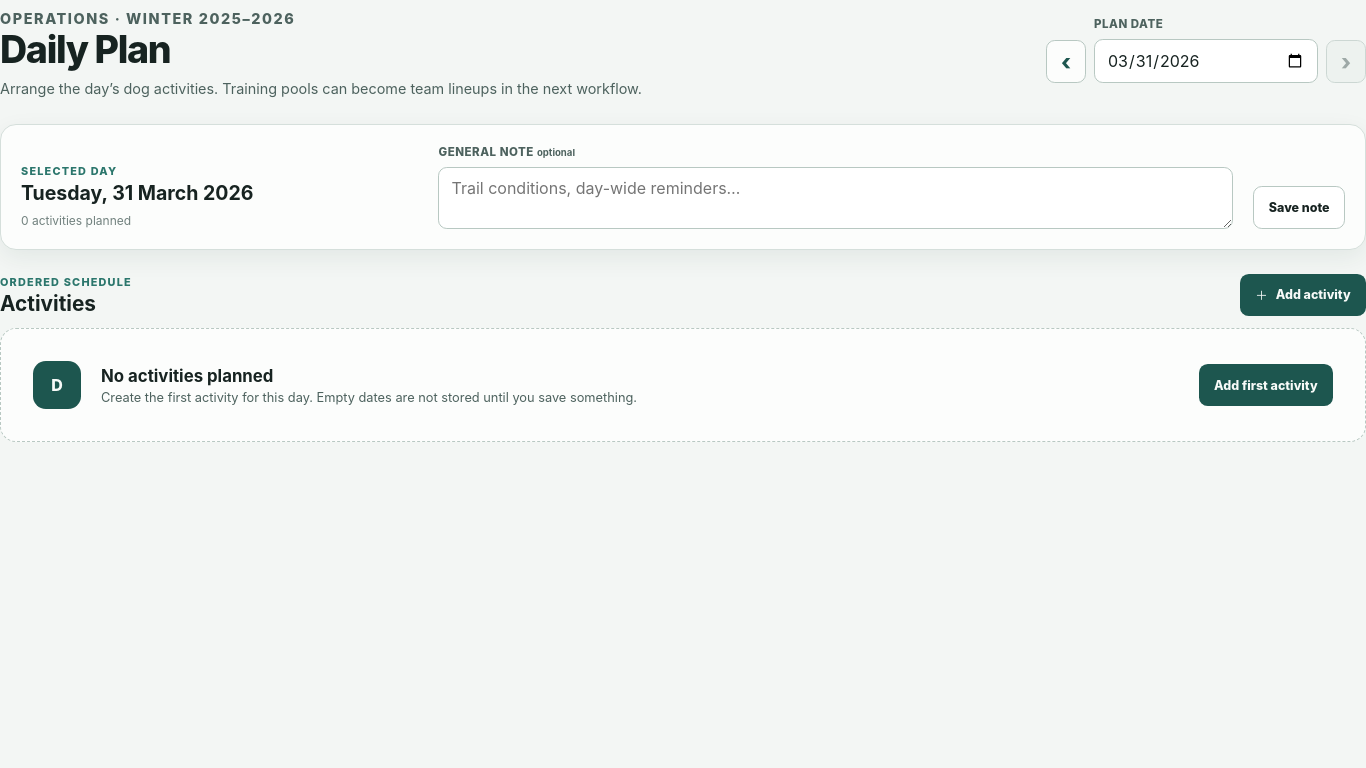
Scenario: DailyPlanPageComponent › creates a 5 km Training activity with selected participants
Click the button "＋ Add activity" at (1303,295), box [1240,274,1365,316]
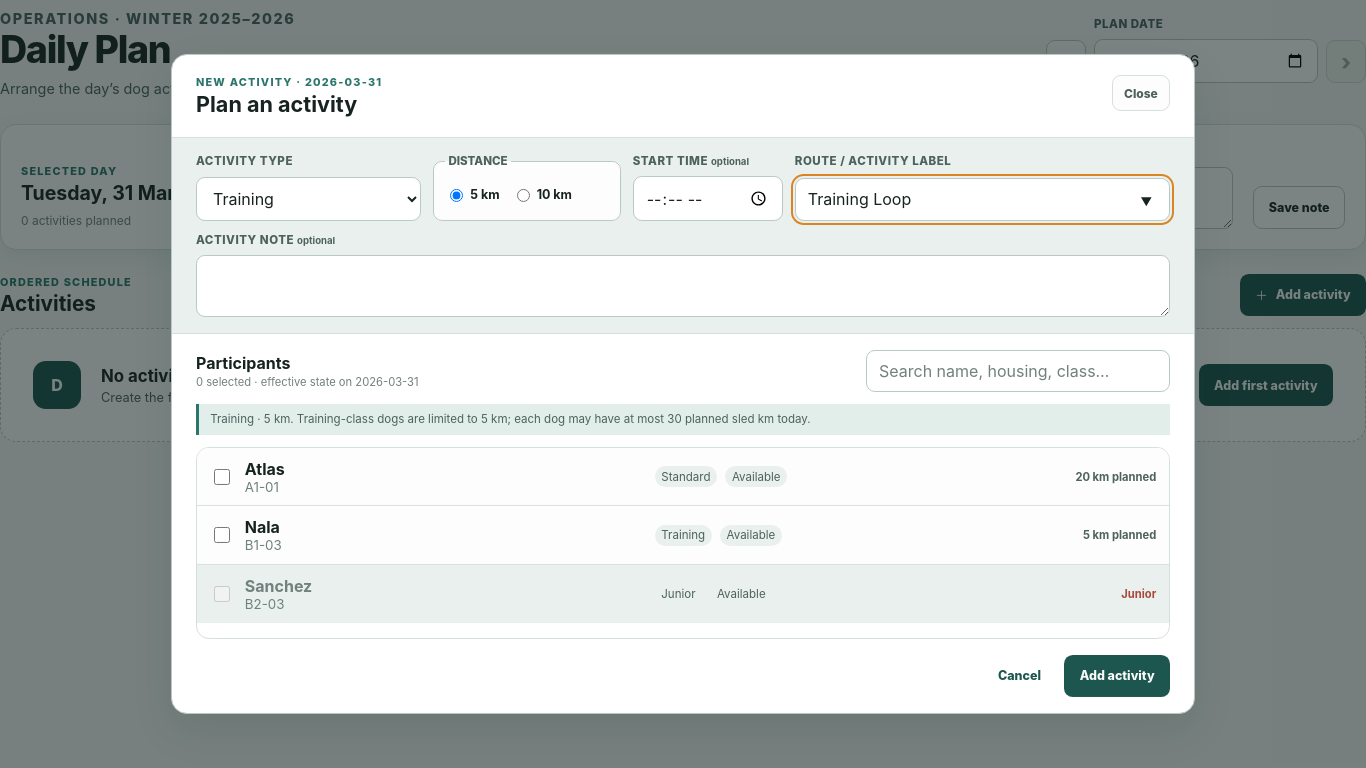
Click the checkbox named "dog-atlas-id" at (222,476), box [214,468,230,484]
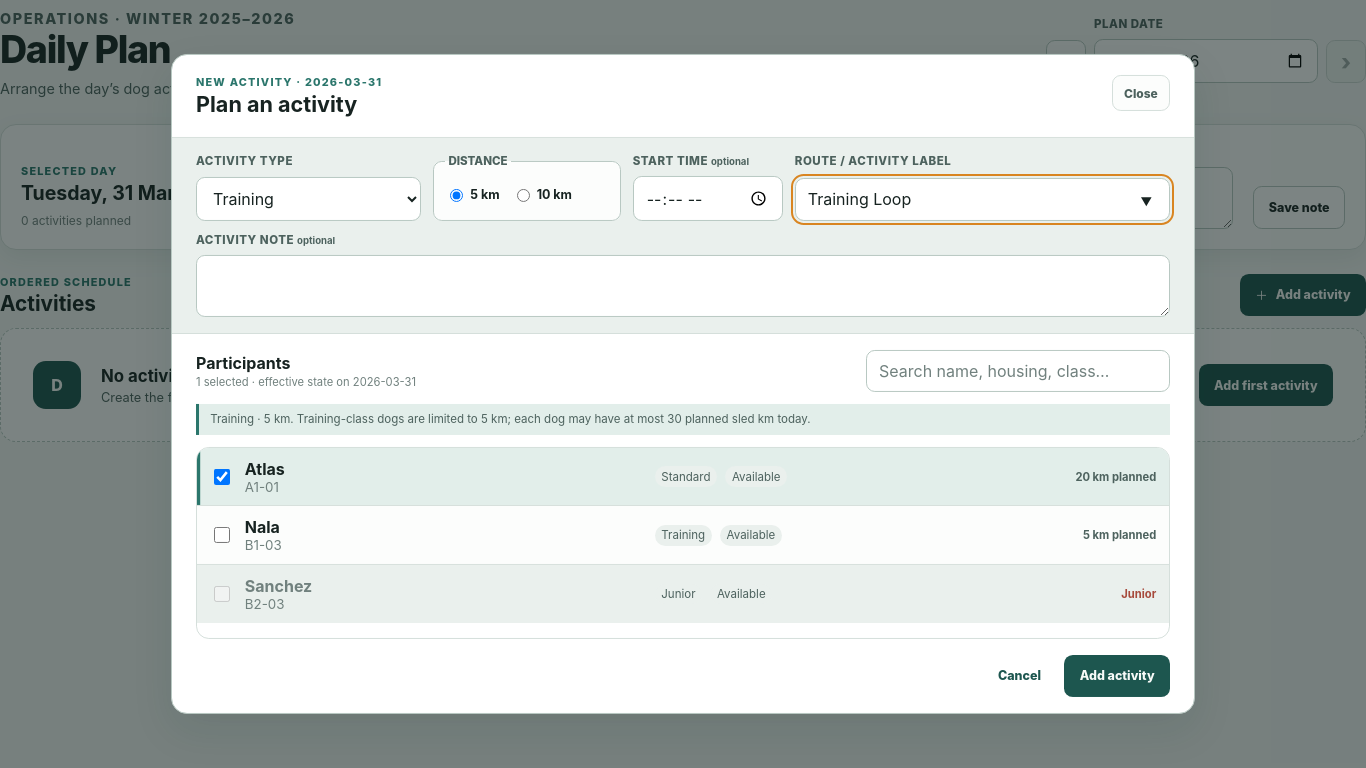
Submit the form, box [172,138,1194,713]
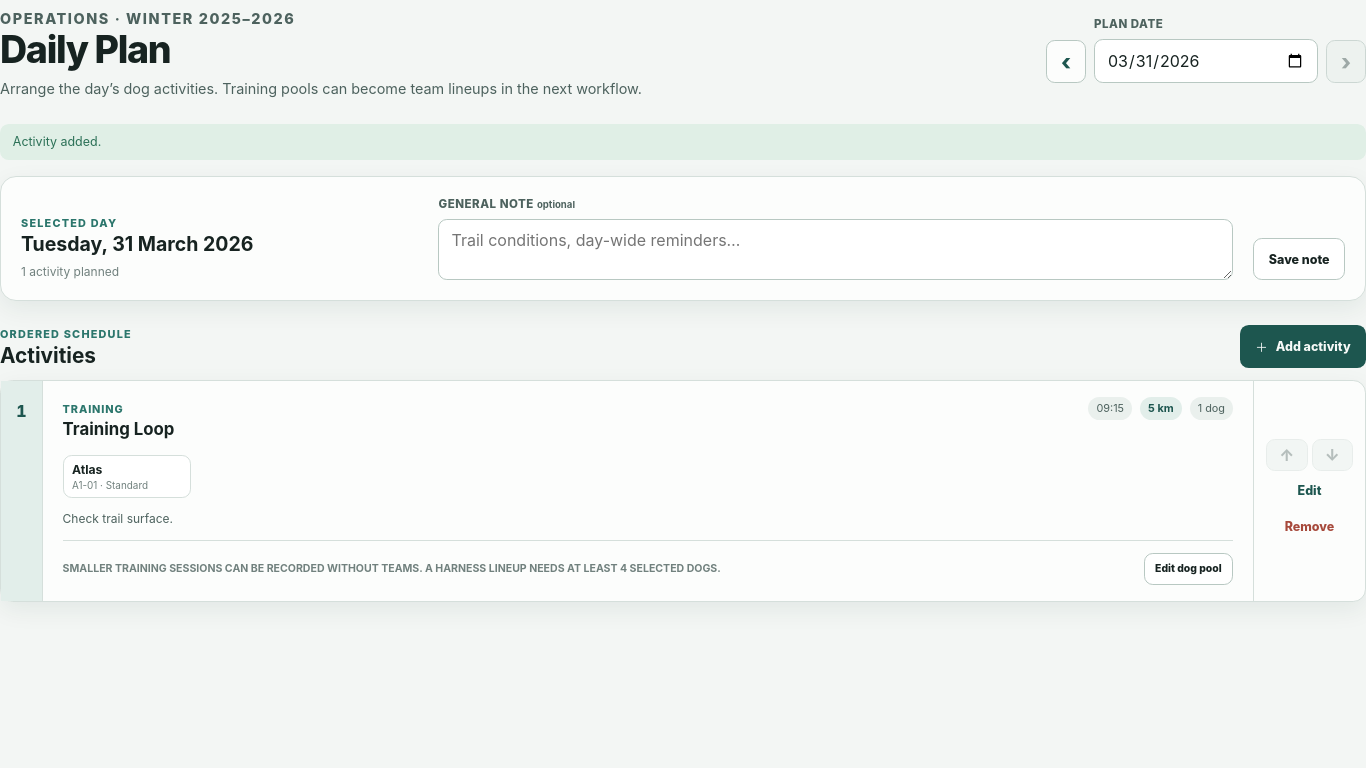
Result: the text "Atlas" is shown at [72,462,102,477]
Result: the text "Activity added" is shown at [13,134,101,149]
Result: the dialog is gone
